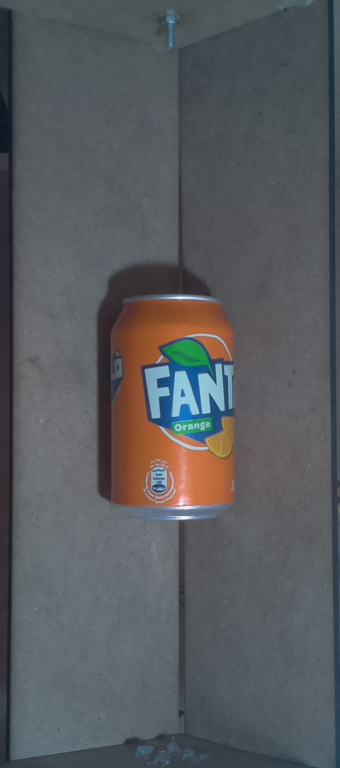Canette: (95, 289, 245, 527)
